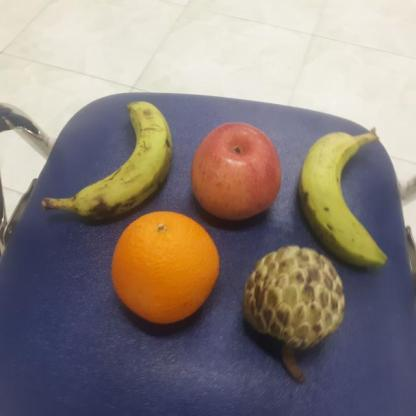annona: (238, 244, 348, 350)
apple: (188, 121, 285, 223)
banana: (71, 100, 179, 223), (298, 127, 392, 268)
orange: (109, 212, 221, 326)
